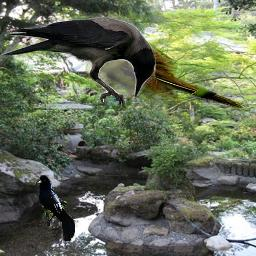Crow: (1, 16, 156, 106), (36, 175, 75, 241)
Cuckoo: (64, 16, 246, 111)
